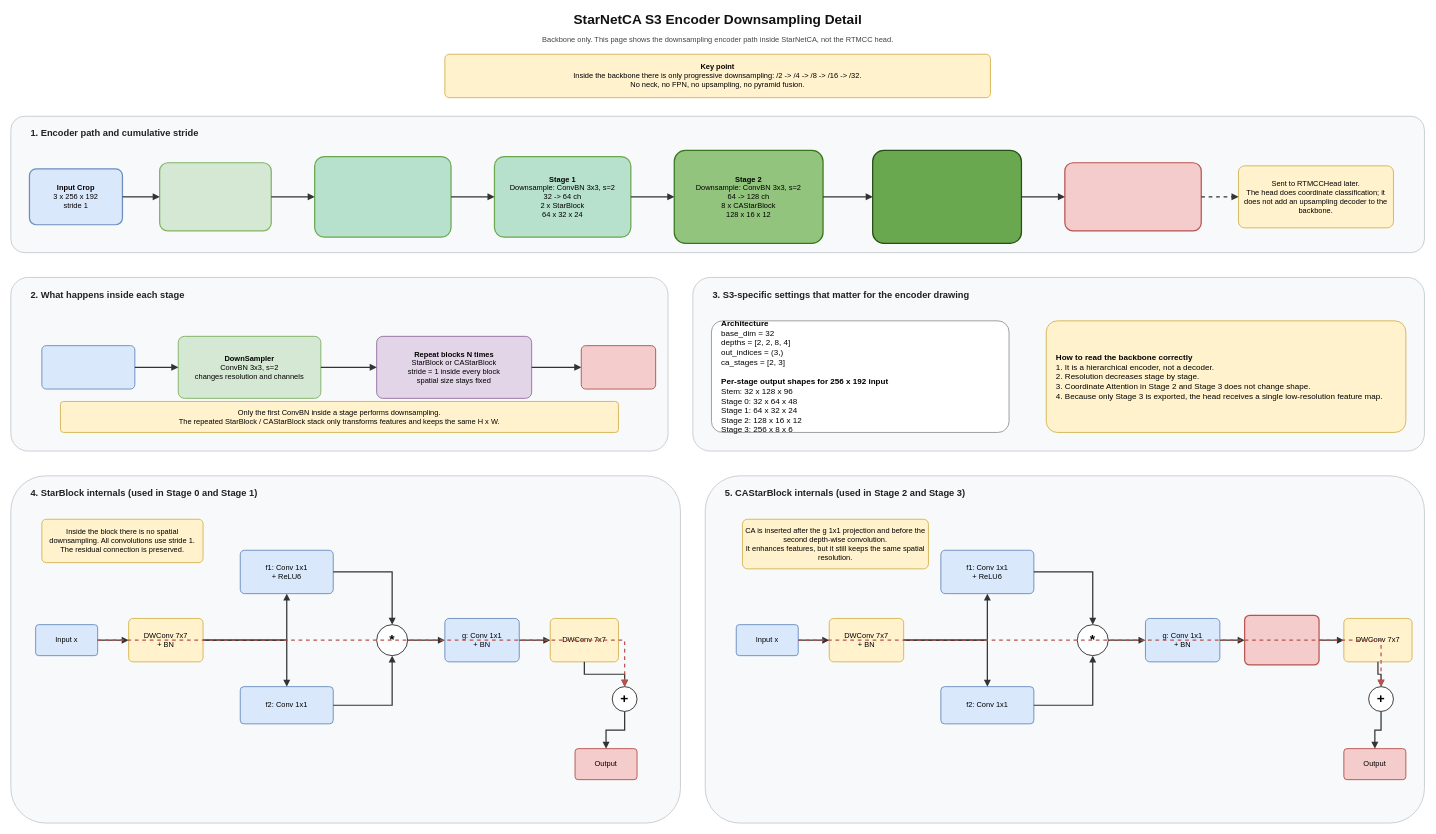
The diagram is 1436 pixels wide and 834 high, and some of its shapes have lost their labels. Here are the shapes that lost their labels. From the top down, the centre of each, then its label:
At (x=215, y=196): "Stem ConvBN 3x3, s=2 3 -> 32 ch 32 x 128 x 96".
At (x=382, y=196): "Stage 0 Downsample: ConvBN 3x3, s=2 32 -> 32 ch 2 x StarBlock 32 x 64 x 48".
At (x=947, y=196): "Stage 3 Downsample: ConvBN 3x3, s=2 128 -> 256 ch 4 x CAStarBlock 256 x 8 x 6".
At (x=1133, y=196): "Backbone Output out_indices = (3,) Only Stage 3 is exported 256 x 8 x 6".
At (x=88, y=367): "Stage input C_in x H x W".
At (x=618, y=367): "Stage output C_out x H/2 x W/2".
At (x=1281, y=639): "Coordinate Attention".
